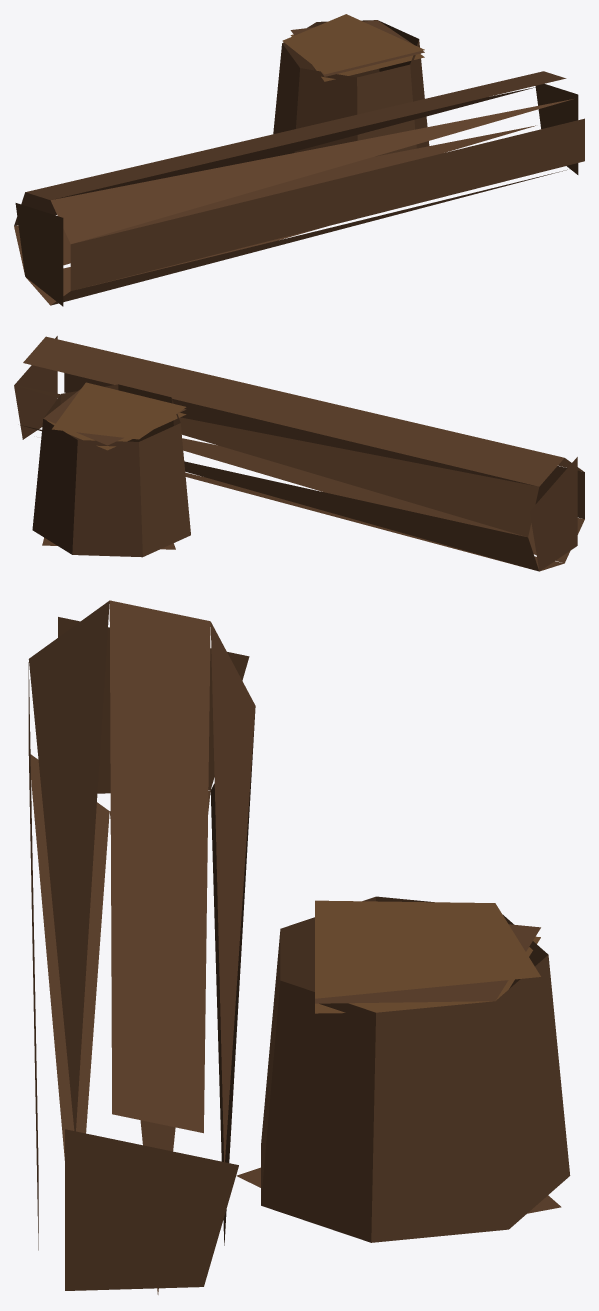
File: prop_log_pile_lod1.glb
3 renders of one model, top to bottom at view 1: azimuth 30°, elevation 25°; view 2: azimuth 150°, elevation 25°; view 3: azimuth 270°, elevation 25°, orthographic. The views are drawn at different scales.
Visible parts, largest first — view 1: prop_log_pile_lod1; view 2: prop_log_pile_lod1; view 3: prop_log_pile_lod1.
Boxes of the visible parts, x1,y1,x2,y2 form: prop_log_pile_lod1: (14,14,584,306); prop_log_pile_lod1: (14,336,584,571); prop_log_pile_lod1: (28,600,570,1294).
Size of the model in its own units: 2.2 by 0.4645 by 0.9982.
